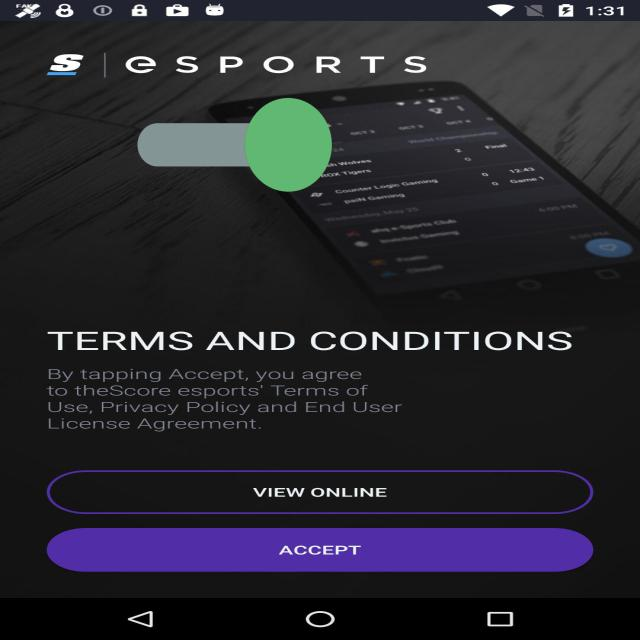social proof: (137, 41, 332, 250)
